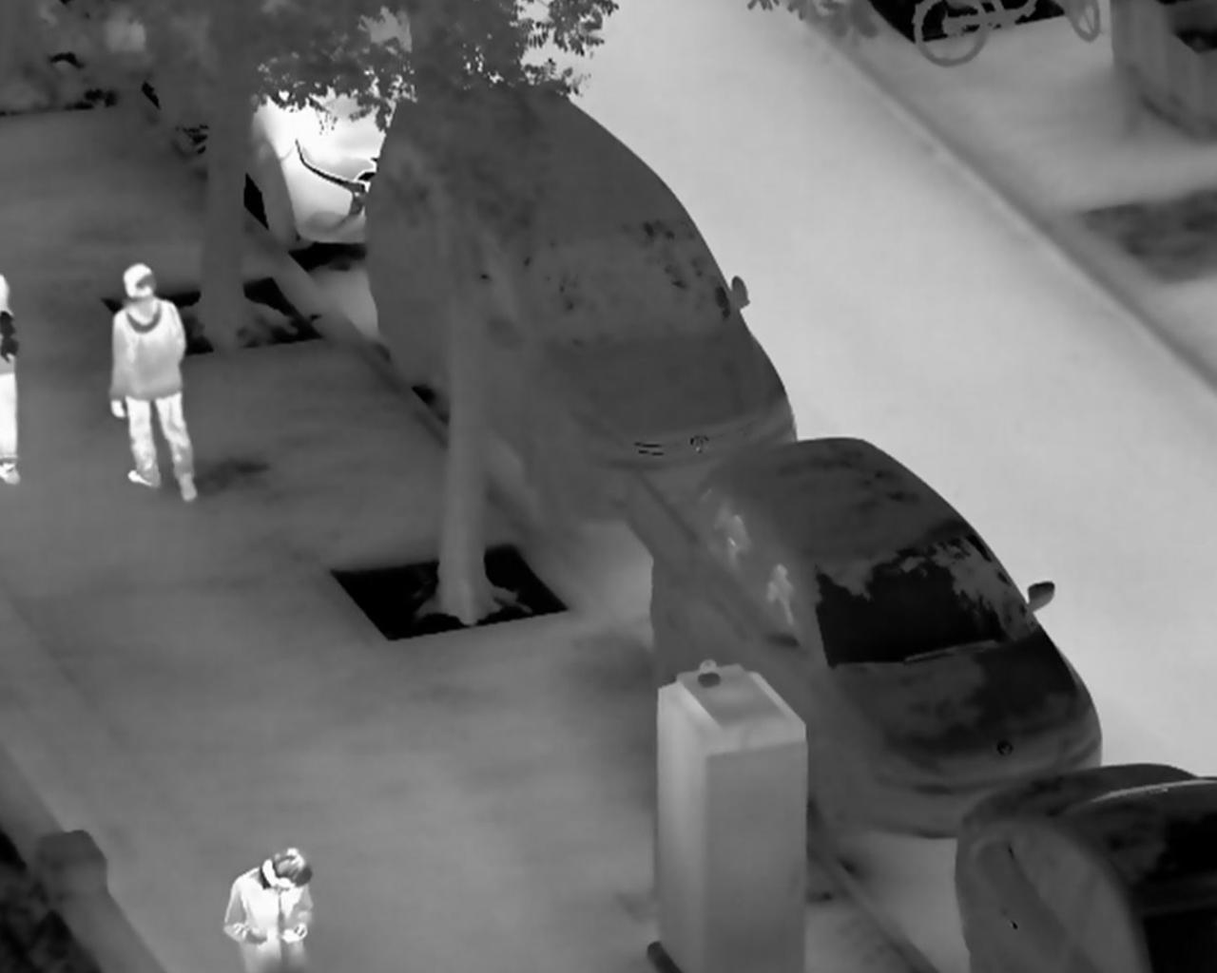person: (106, 261, 199, 506), (220, 846, 314, 973)
